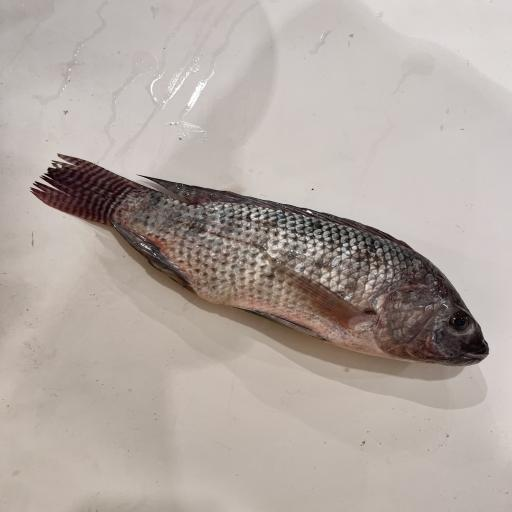Tilapia: (30, 153, 490, 368)
